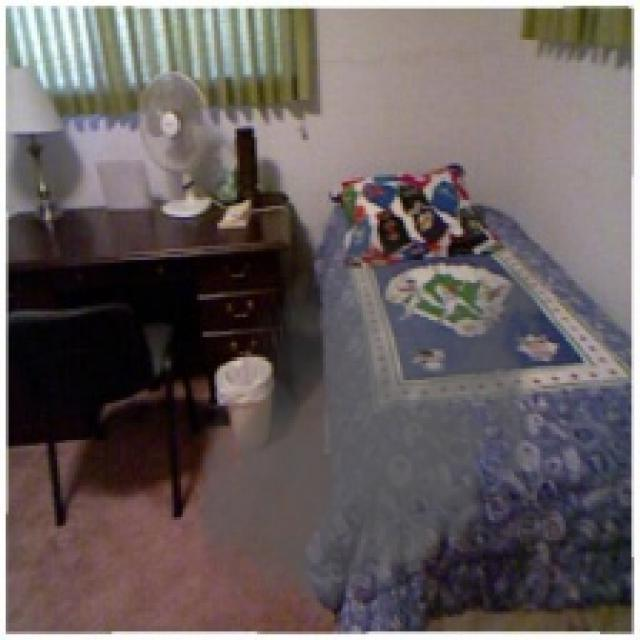Smoke: (188, 222, 554, 638)
